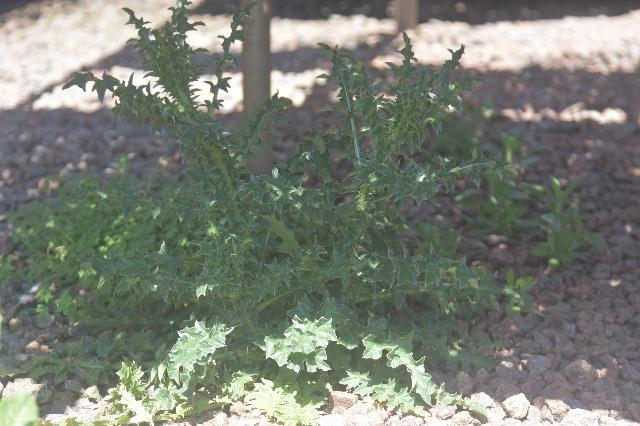MalezaMontesDelPlata: (64, 3, 284, 426), (290, 35, 527, 417), (526, 169, 602, 278), (91, 359, 195, 425)
